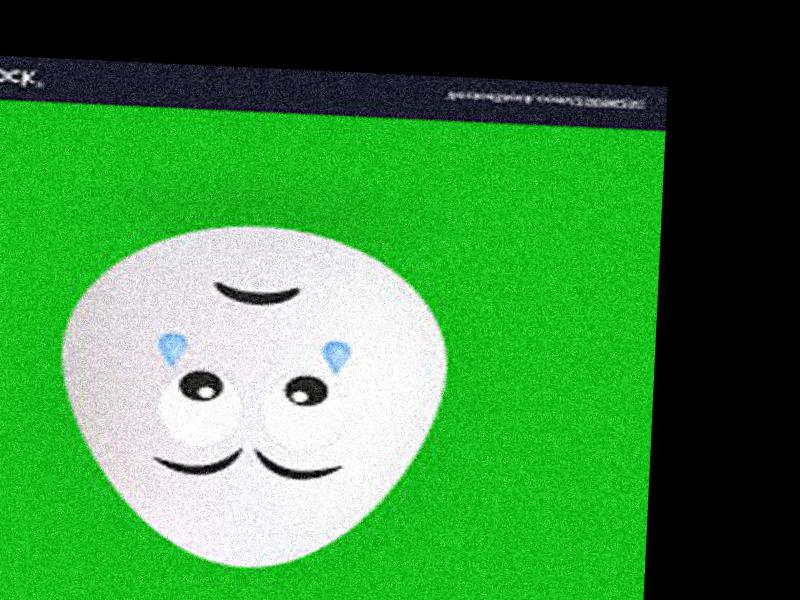Eggs: (49, 218, 449, 573)
